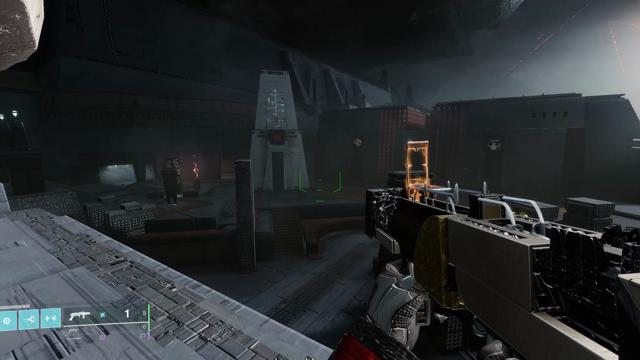brain: (352, 138, 363, 148)
drink: (485, 137, 502, 151)
stop: (271, 132, 283, 143)
